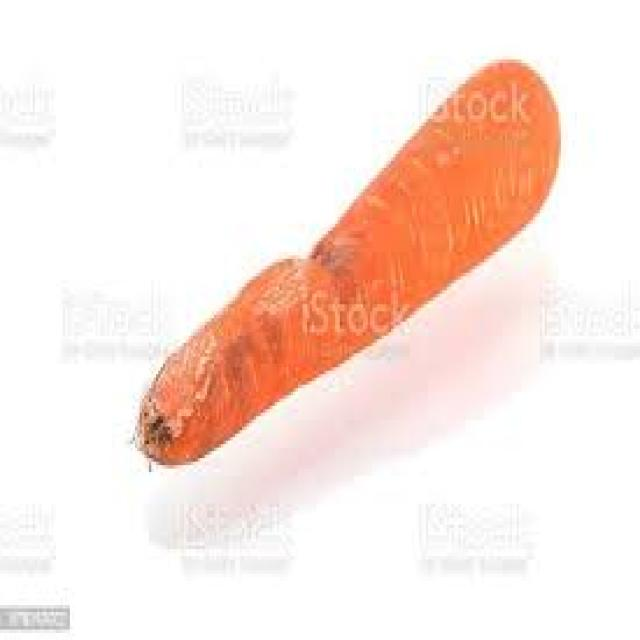Stale_Carrot: (89, 32, 577, 538)
